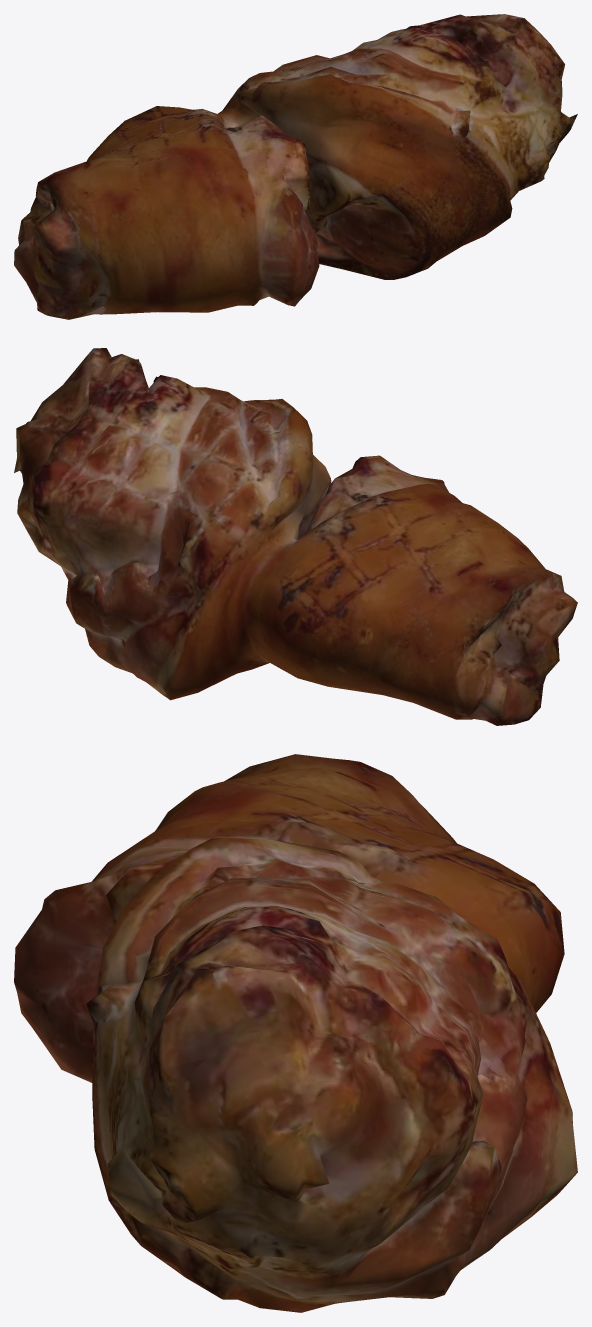
The model's file is joint_b.glb.
The picture shows the model from 3 angles, top to bottom: view 1: azimuth 30°, elevation 25°; view 2: azimuth 150°, elevation 25°; view 3: azimuth 270°, elevation 25°; orthographic projection. The views are drawn at different scales.
Parts seen in each view (by area): view 1: webjdcvaa_LOD0_TIER2_000; view 2: webjdcvaa_LOD0_TIER2_000; view 3: webjdcvaa_LOD0_TIER2_000.
Boxes of the visible parts, x1,y1,x2,y2 form: webjdcvaa_LOD0_TIER2_000: (14,14,577,319); webjdcvaa_LOD0_TIER2_000: (14,348,577,725); webjdcvaa_LOD0_TIER2_000: (14,754,577,1312).
Size of the model in its own units: 0.2353 by 0.104 by 0.1284.
1 material, 1 textured.
